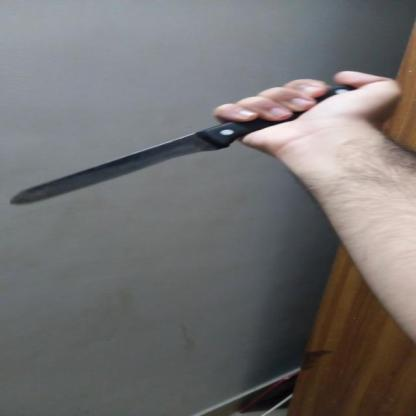Knife: (4, 49, 328, 212)
